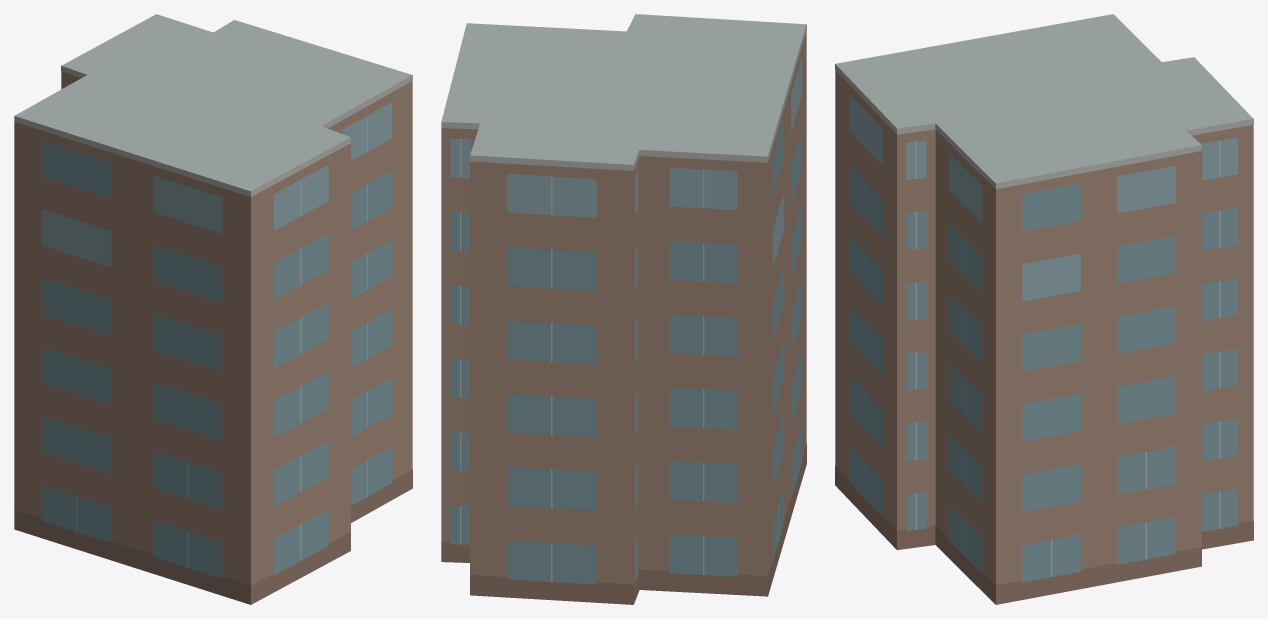
The model's file is survey-upis-32850721.glb.
3 views of the same model, side by side, from view 1: azimuth 30°, elevation 25°; view 2: azimuth 150°, elevation 25°; view 3: azimuth 270°, elevation 25° (orthographic). The views are drawn at different scales.
Visible parts, largest first — view 1: survey-upis-32850721.tmp; view 2: survey-upis-32850721.tmp; view 3: survey-upis-32850721.tmp.
Part boxes in pixels (x1=…): survey-upis-32850721.tmp: x1=14, y1=14, x2=412, y2=604; survey-upis-32850721.tmp: x1=441, y1=14, x2=806, y2=604; survey-upis-32850721.tmp: x1=835, y1=14, x2=1253, y2=604.
Size of the model in its own units: 15.19 by 17.6 by 15.86.
